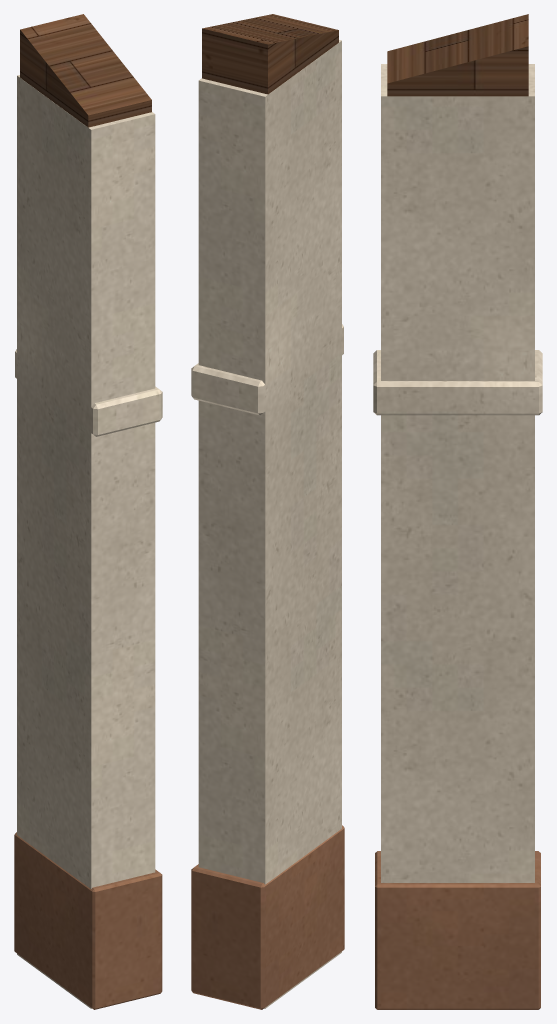
File: arcade_end_r.glb
3 views of the same model, side by side, from view 1: azimuth 30°, elevation 25°; view 2: azimuth 150°, elevation 25°; view 3: azimuth 270°, elevation 25° (orthographic). The views are drawn at different scales.
Parts seen in each view (by area): view 1: arcade_end_r_render, arcade_end_r_plinth, arcade_end_r_wood; view 2: arcade_end_r_render, arcade_end_r_plinth, arcade_end_r_wood; view 3: arcade_end_r_render, arcade_end_r_plinth, arcade_end_r_wood.
Part boxes in pixels (x1,y1,x2,y2): arcade_end_r_render: (15,75,162,1008); arcade_end_r_plinth: (14,832,162,1009); arcade_end_r_wood: (20,14,151,127); arcade_end_r_render: (191,40,343,1008); arcade_end_r_plinth: (191,825,344,1009); arcade_end_r_wood: (202,14,338,94); arcade_end_r_render: (373,64,542,882); arcade_end_r_plinth: (375,851,540,1009); arcade_end_r_wood: (387,14,528,96).
Bounding box in the file's own units: 0.273 × 3.45 × 0.55.
3 materials, 3 textured.
